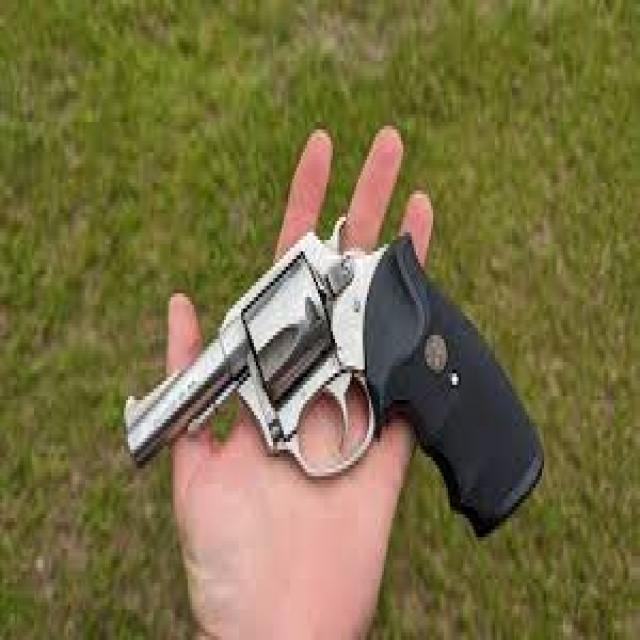Gun: (106, 205, 535, 516)
